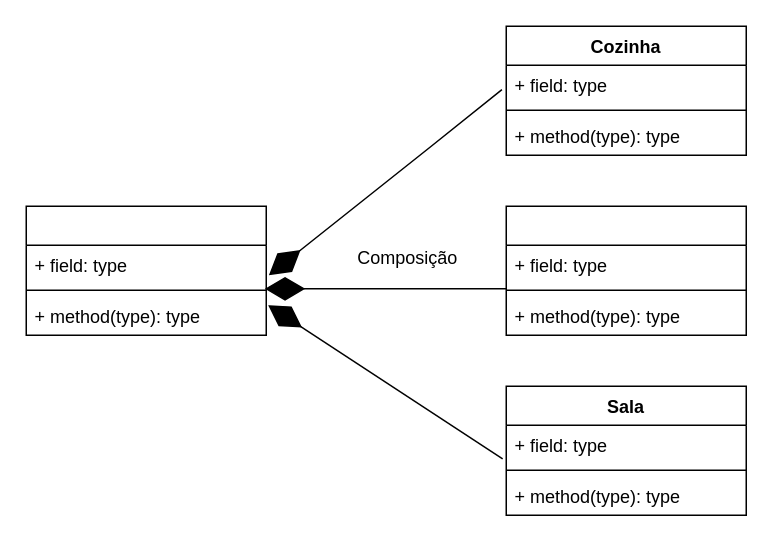
Some shapes in this 773 by 546 pixel diagram are drawn without their labels. Each missing label, with the box of its shape:
Casa: (25, 205, 266, 335)
Quarto: (505, 205, 746, 335)
